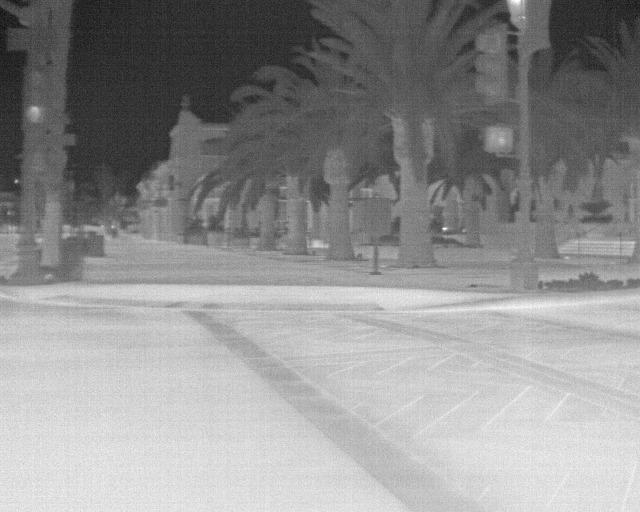car: (81, 231, 104, 256), (0, 191, 18, 220)
light: (474, 33, 498, 97), (25, 70, 46, 130), (485, 126, 511, 152)
sign: (6, 27, 56, 52), (27, 134, 77, 147)
